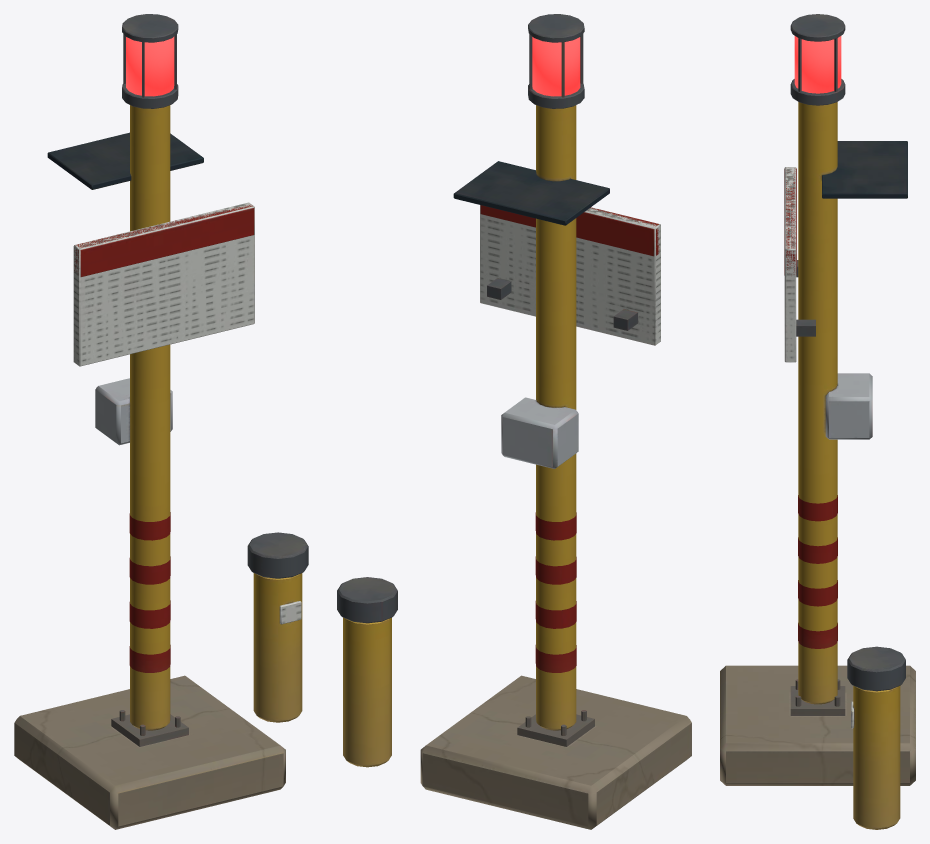
Rendered from export_marker.glb.
3 views of the same model, side by side, from view 1: azimuth 30°, elevation 25°; view 2: azimuth 150°, elevation 25°; view 3: azimuth 270°, elevation 25° (orthographic). The views are drawn at different scales.
Visible parts, largest first — view 1: export_marker_Body, Beacon; view 2: export_marker_Body, Beacon; view 3: export_marker_Body, Beacon.
Part boxes in pixels (box(x1,y1,x2,y2)): export_marker_Body: box(14, 14, 308, 829); Beacon: box(126, 36, 174, 96); export_marker_Body: box(337, 14, 691, 829); Beacon: box(532, 37, 580, 96); export_marker_Body: box(720, 14, 915, 829); Beacon: box(794, 36, 841, 93).
Bounding box in the file's own units: 0.7749 × 2.04 × 0.5001.
2 materials, 1 textured.
